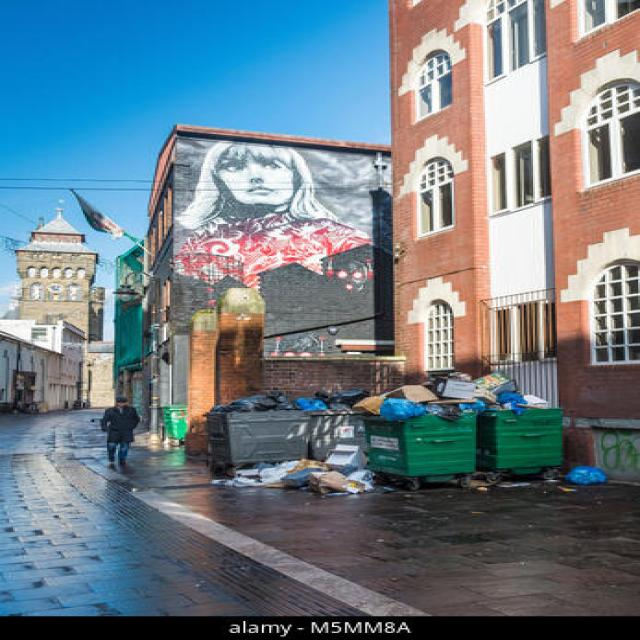cardboard: (275, 459, 363, 492), (399, 385, 437, 398)
trash: (228, 394, 300, 412), (568, 467, 607, 482)
